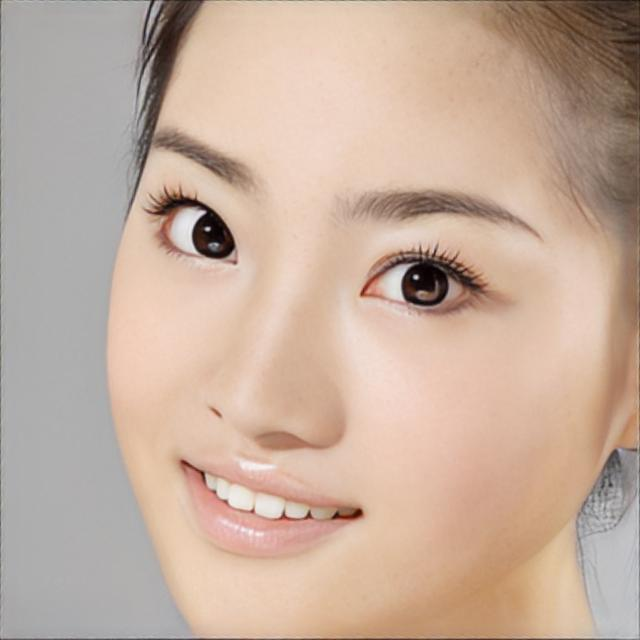happy: (102, 5, 624, 640)
